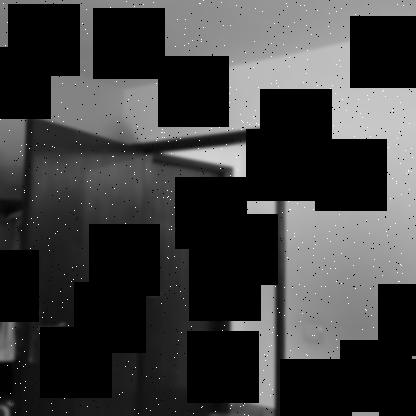Porte: (11, 115, 288, 416), (140, 151, 234, 416)
